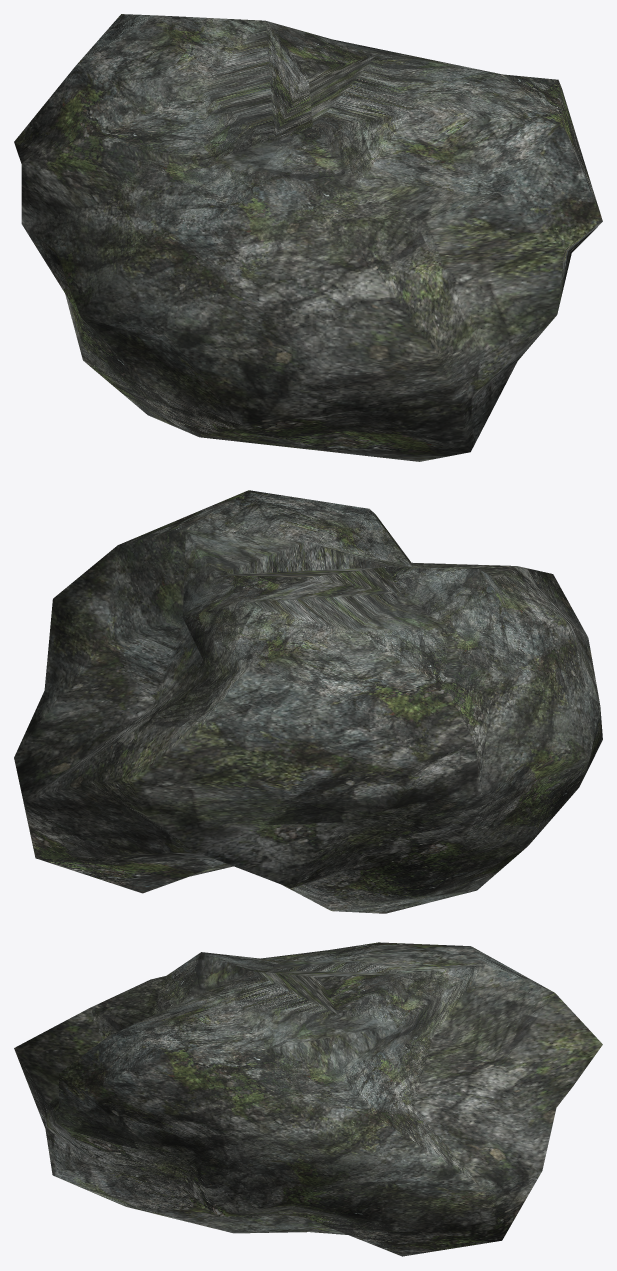
File: Rock_2.fbx
3 views of the same model, one above another, from view 1: azimuth 30°, elevation 25°; view 2: azimuth 150°, elevation 25°; view 3: azimuth 270°, elevation 25° (orthographic). The views are drawn at different scales.
Parts seen in each view (by area): view 1: Rock_2; view 2: Rock_2; view 3: Rock_2.
Boxes of the visible parts, box(x1,y1,x2,y2) form: Rock_2: box(14, 14, 602, 461); Rock_2: box(14, 490, 602, 913); Rock_2: box(14, 942, 602, 1256).
Size of the model in its own units: 146 by 88.1 by 180.
